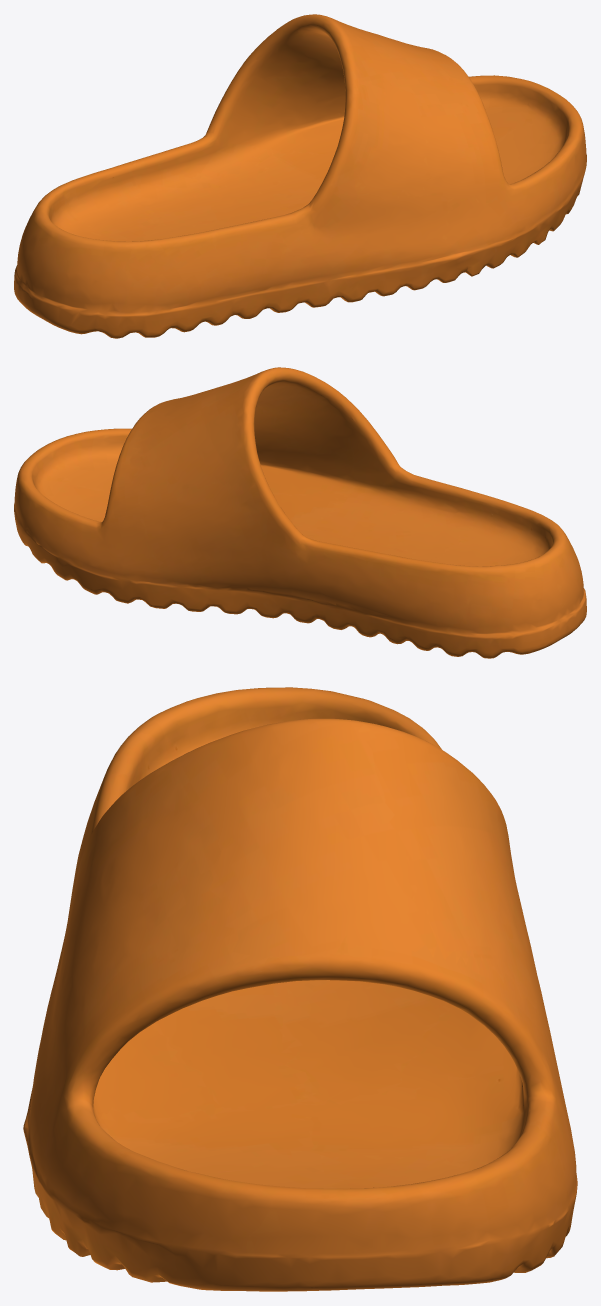
Rendered from slide.glb.
The picture shows the model from 3 angles, top to bottom: view 1: azimuth 30°, elevation 25°; view 2: azimuth 150°, elevation 25°; view 3: azimuth 270°, elevation 25°; orthographic projection. The views are drawn at different scales.
Visible parts, largest first — view 1: tripo_node_45571bb0-a4d9-4305-a7a3-83b7b83527e8; view 2: tripo_node_45571bb0-a4d9-4305-a7a3-83b7b83527e8; view 3: tripo_node_45571bb0-a4d9-4305-a7a3-83b7b83527e8.
Part boxes in pixels (x1,y1,x2,y2): tripo_node_45571bb0-a4d9-4305-a7a3-83b7b83527e8: [14, 14, 586, 338]; tripo_node_45571bb0-a4d9-4305-a7a3-83b7b83527e8: [14, 367, 586, 658]; tripo_node_45571bb0-a4d9-4305-a7a3-83b7b83527e8: [23, 687, 577, 1291].
Bounding box in the file's own units: 1 × 0.3784 × 0.4561.
1 material, 1 textured.
